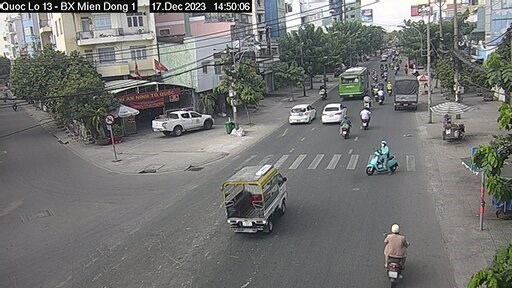bus: (338, 59, 371, 96)
car: (155, 107, 205, 140), (321, 97, 345, 124), (290, 100, 318, 123)
motorbike: (366, 140, 401, 177), (334, 110, 350, 137), (358, 107, 375, 126)
truck: (392, 75, 419, 112)
